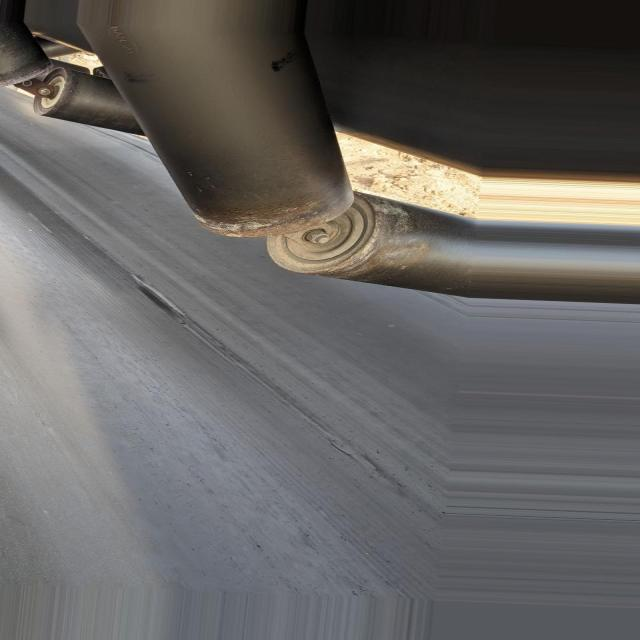Roller: (87, 23, 349, 240), (264, 192, 471, 290), (29, 63, 142, 127), (0, 33, 58, 88)
impact damage: (132, 281, 187, 321)
